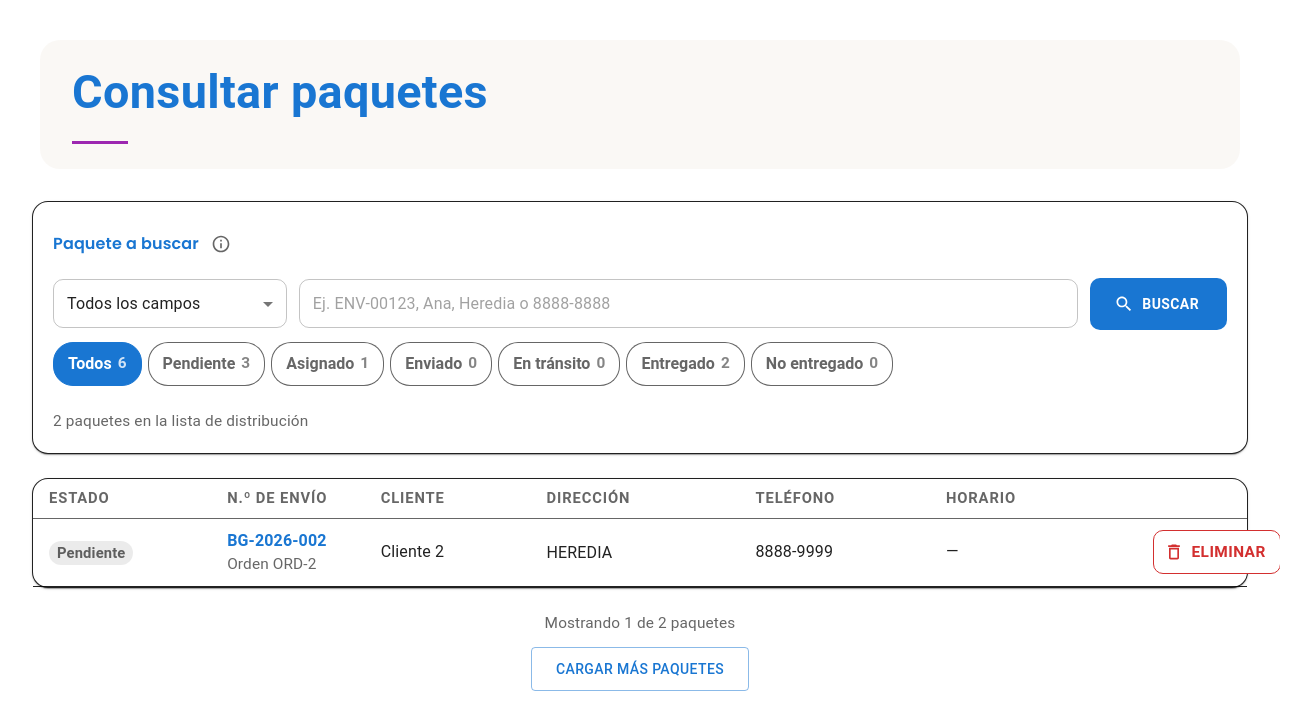
it: PackageSearchPage › con más de una página muestra "Cargar más" y suma los paquetes siguientes a la lista
Expected: the text "Mostrando 1 de 2 paquetes" is shown, [545,612,736,635]
Step 1. Click the button "Cargar más paquetes" → (640, 669), box [531,647,749,691]
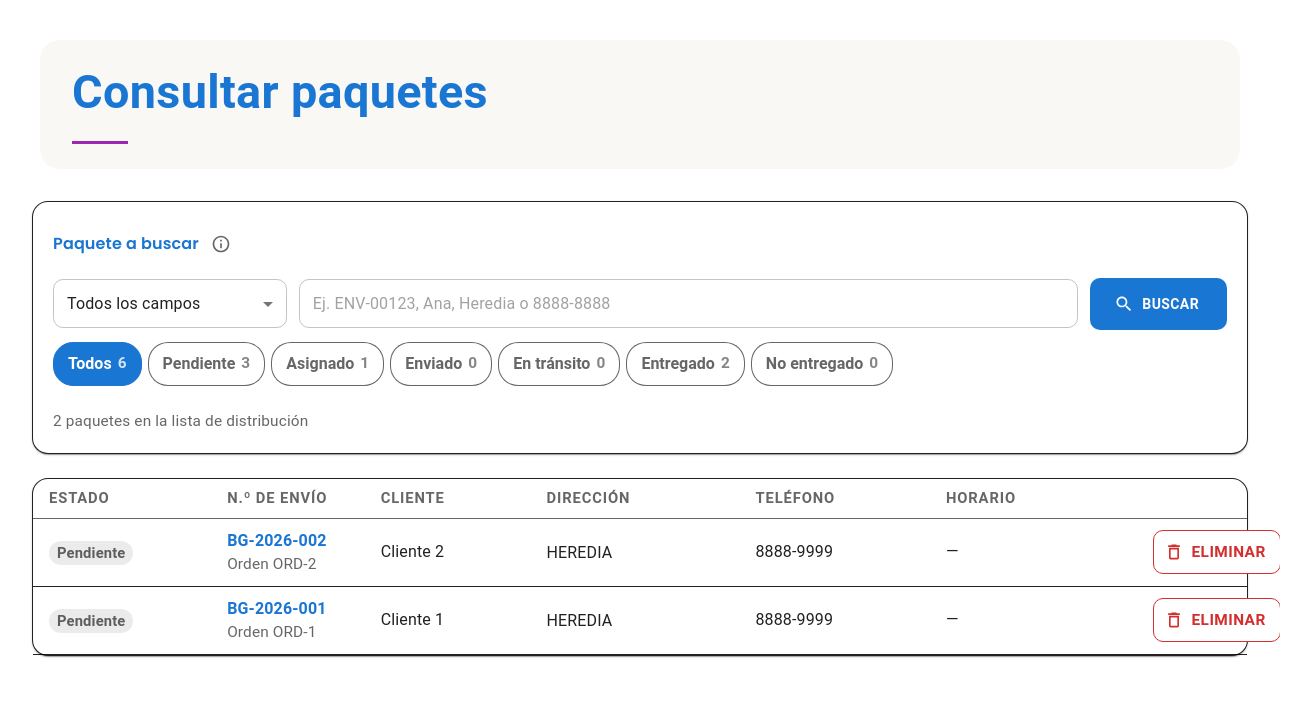
Expected: the link "BG-2026-002" is shown, [227,531,327,550]
Expected: the link "BG-2026-001" is shown, [227,599,327,618]
Expected: the button "Cargar más paquetes" is gone
